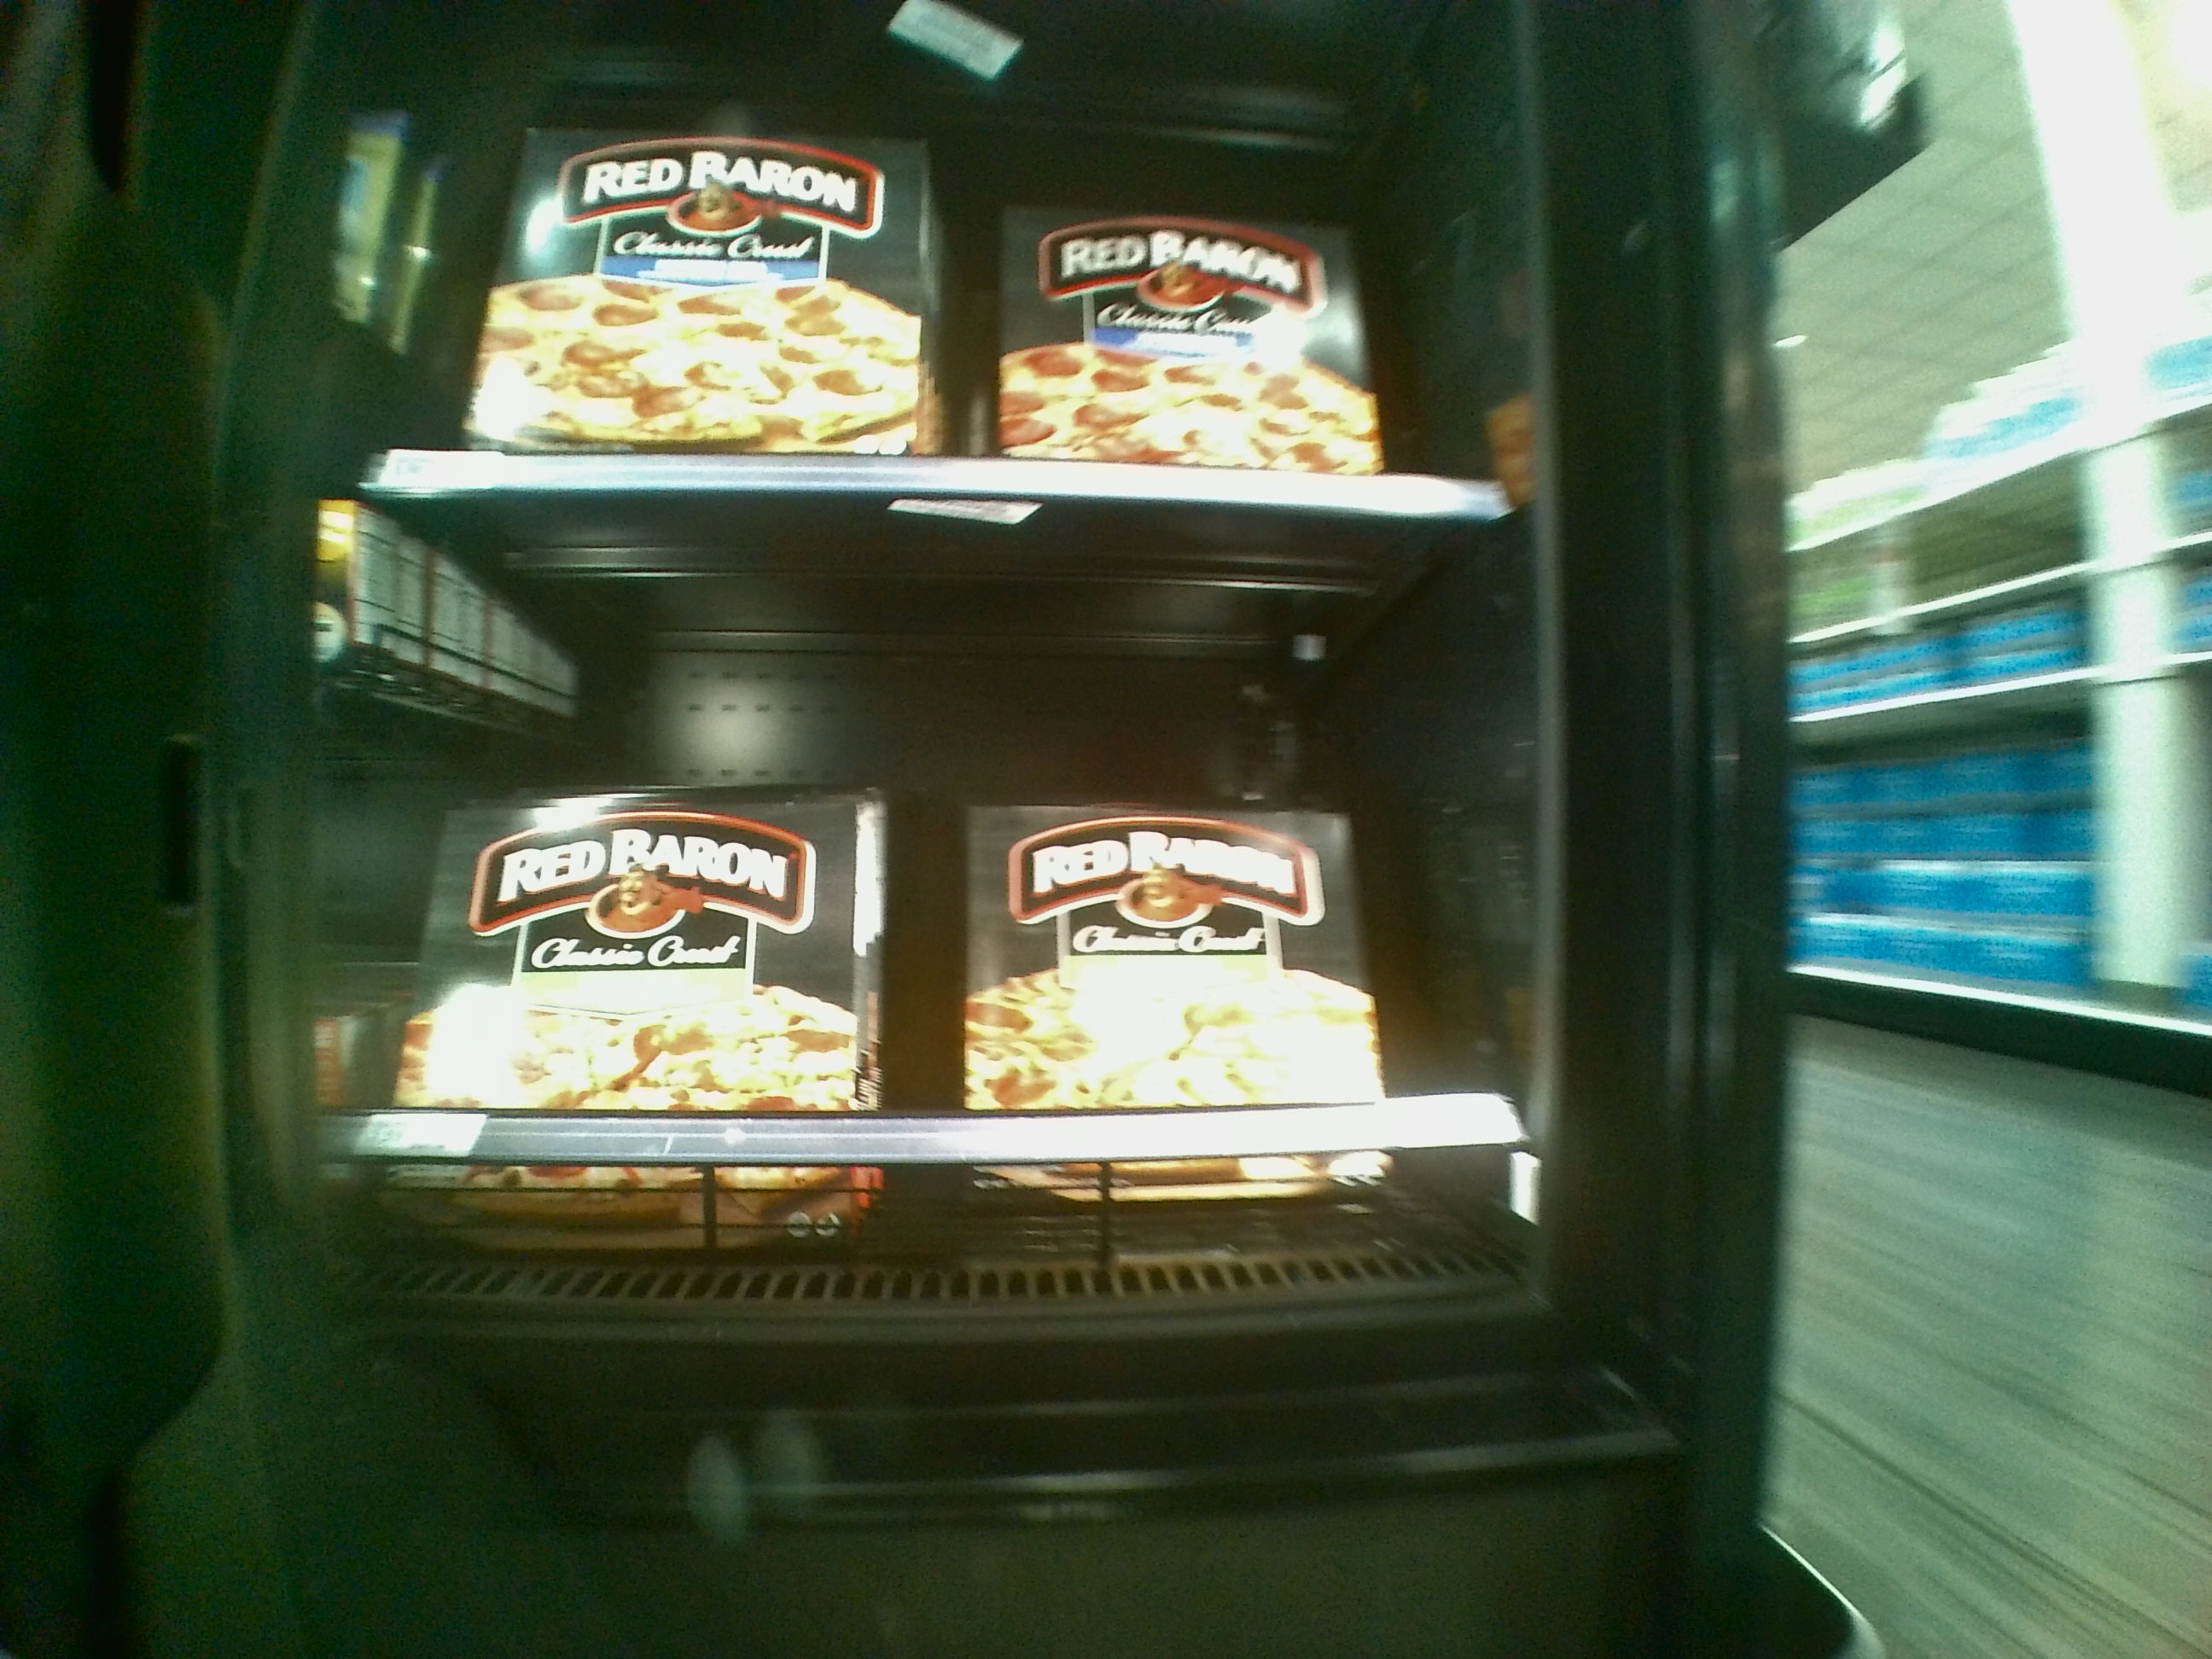shelf: (357, 505, 1503, 1288), (354, 3, 1496, 516)
